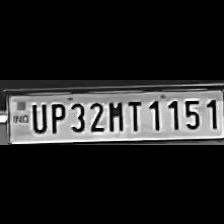1: (203, 94, 221, 130), (162, 96, 180, 130), (146, 96, 162, 132)
2: (86, 97, 104, 132)
3: (68, 98, 86, 132)
5: (180, 95, 200, 129)
M: (105, 97, 125, 132)
P: (46, 100, 66, 134)
T: (125, 96, 144, 132)
U: (28, 100, 48, 132)
